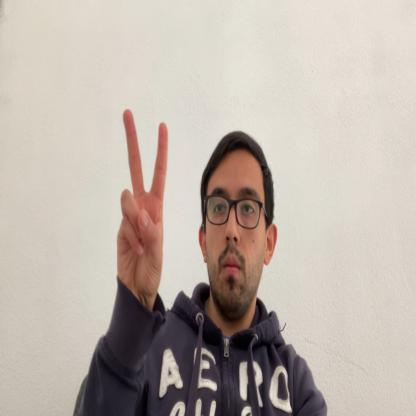V: (116, 108, 168, 295)
